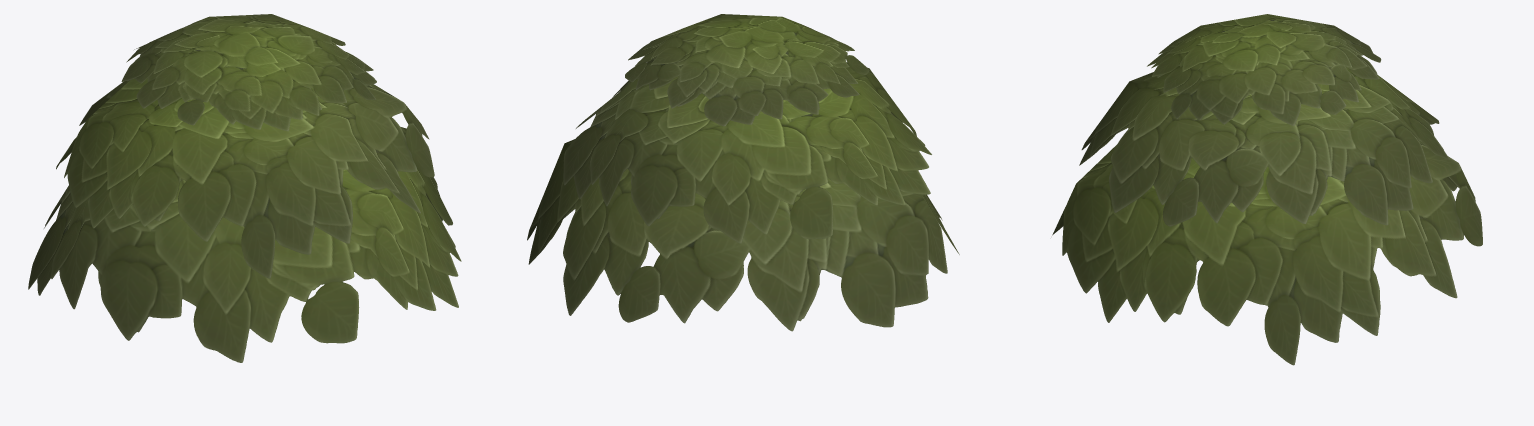
The model's file is Bush1.glb.
3 renders of one model, left to right at view 1: azimuth 30°, elevation 25°; view 2: azimuth 150°, elevation 25°; view 3: azimuth 270°, elevation 25°, orthographic. The views are drawn at different scales.
Parts seen in each view (by area): view 1: bush.003; view 2: bush.003; view 3: bush.003.
Boxes of the visible parts, box(x1,y1,x2,y2) form: bush.003: box(28, 14, 461, 362); bush.003: box(527, 14, 959, 331); bush.003: box(1052, 14, 1482, 365).
Bounding box in the file's own units: 1.82 × 1.09 × 1.82.
Materials: 1 (1 with a texture image).
